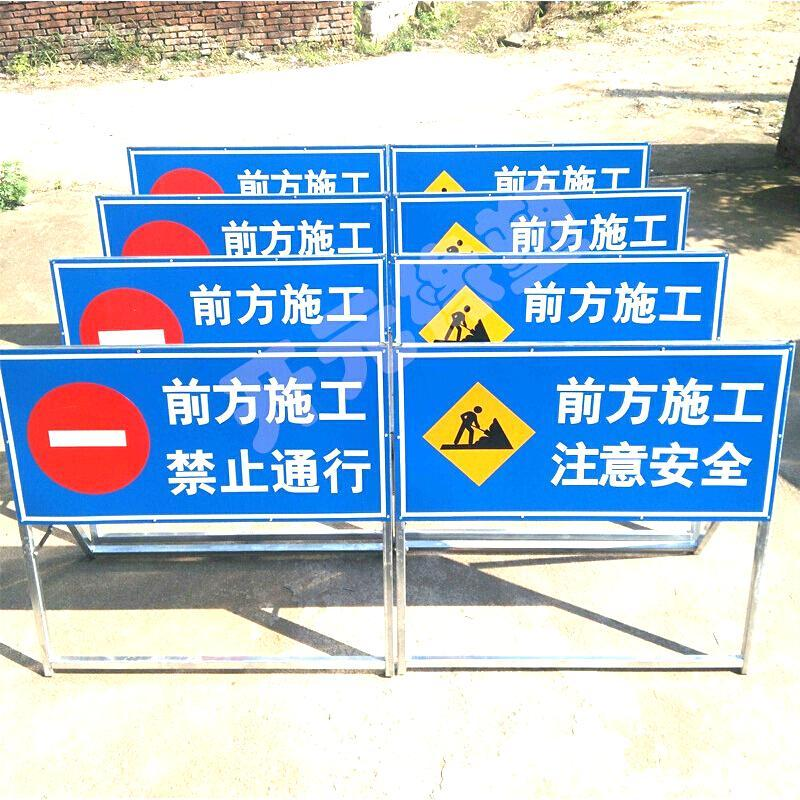sign: (400, 347, 790, 518), (1, 350, 383, 510), (53, 257, 384, 348), (395, 258, 725, 340), (96, 197, 383, 258), (394, 194, 692, 251), (128, 151, 384, 198), (393, 148, 650, 190)
